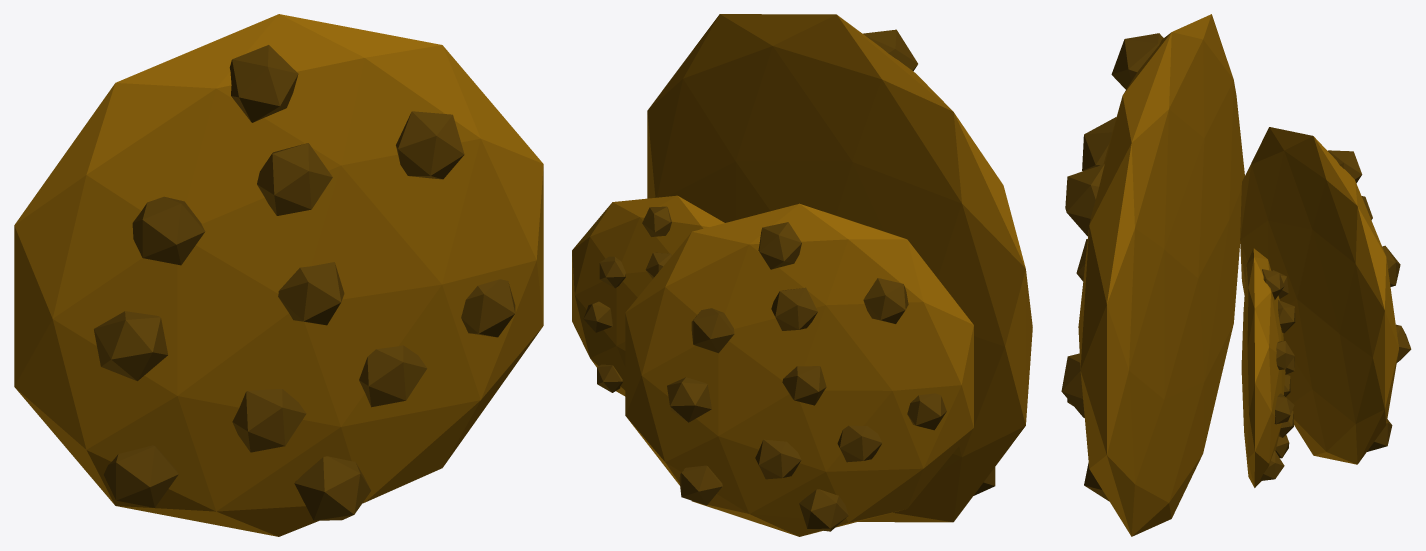
The model's file is cookies.glb.
3 renders of one model, left to right at view 1: azimuth 30°, elevation 25°; view 2: azimuth 150°, elevation 25°; view 3: azimuth 270°, elevation 25°, orthographic. The views are drawn at different scales.
Parts seen in each view (by area): view 1: Icosphere.001; view 2: Icosphere.001; view 3: Icosphere.001.
Part boxes in pixels (x1,y1,x2,y2): Icosphere.001: (14, 14, 543, 536); Icosphere.001: (572, 14, 1032, 536); Icosphere.001: (1061, 14, 1411, 536).
Size of the model in its own units: 1.37 by 1.49 by 0.9678.
1 material, 1 textured.
